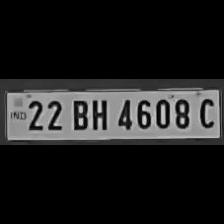0: (152, 96, 170, 128)
2: (23, 97, 44, 131), (44, 97, 64, 131)
4: (113, 96, 133, 130)
6: (134, 96, 152, 130)
8: (172, 95, 192, 129)
B: (68, 97, 88, 130)
C: (195, 95, 217, 129)
H: (88, 96, 110, 132)
